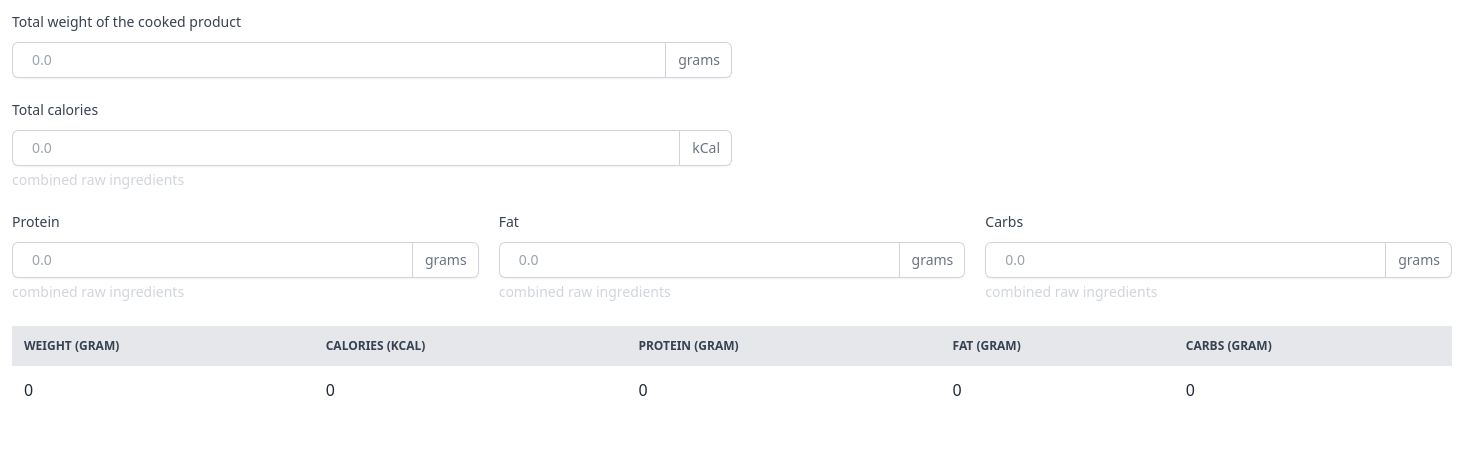
Test case: MacrosCalculator › calculates the macros values per 100 grams when the weight is 0
The image size is (1464, 467).
Type "0" into the number field with test id "weight" at (372, 60), box [12,42,732,78]
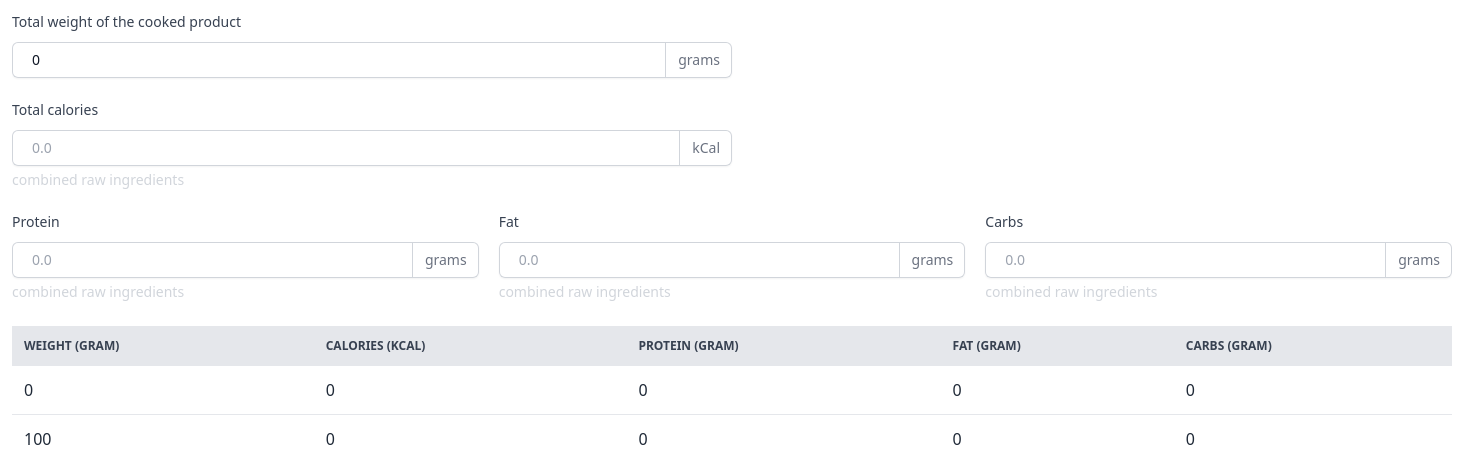
Now the cell with test id "weight-1" reads "100", box [24,428,52,450]
Now the cell with test id "calories-1" reads "0", box [326,428,335,450]
Now the cell with test id "protein-1" reads "0", box [638,428,648,450]
